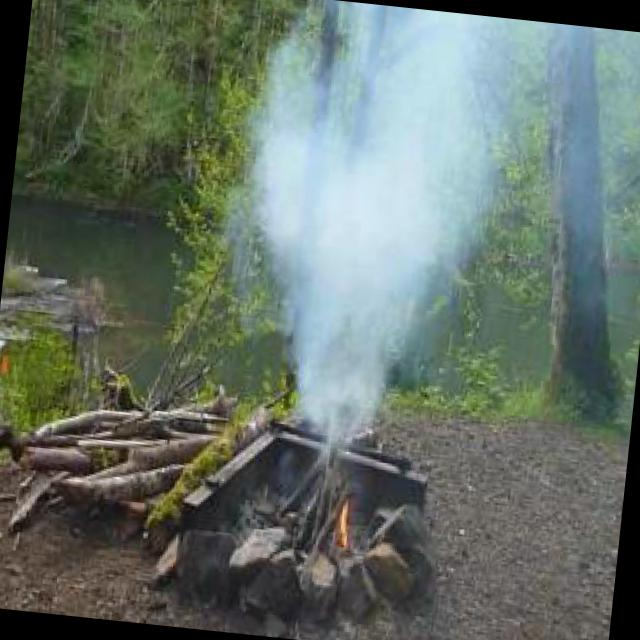fire: (328, 490, 358, 557)
smoke: (213, 0, 489, 454)
